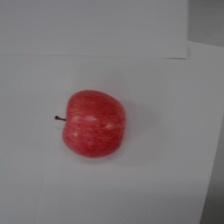red: (59, 87, 128, 159)
